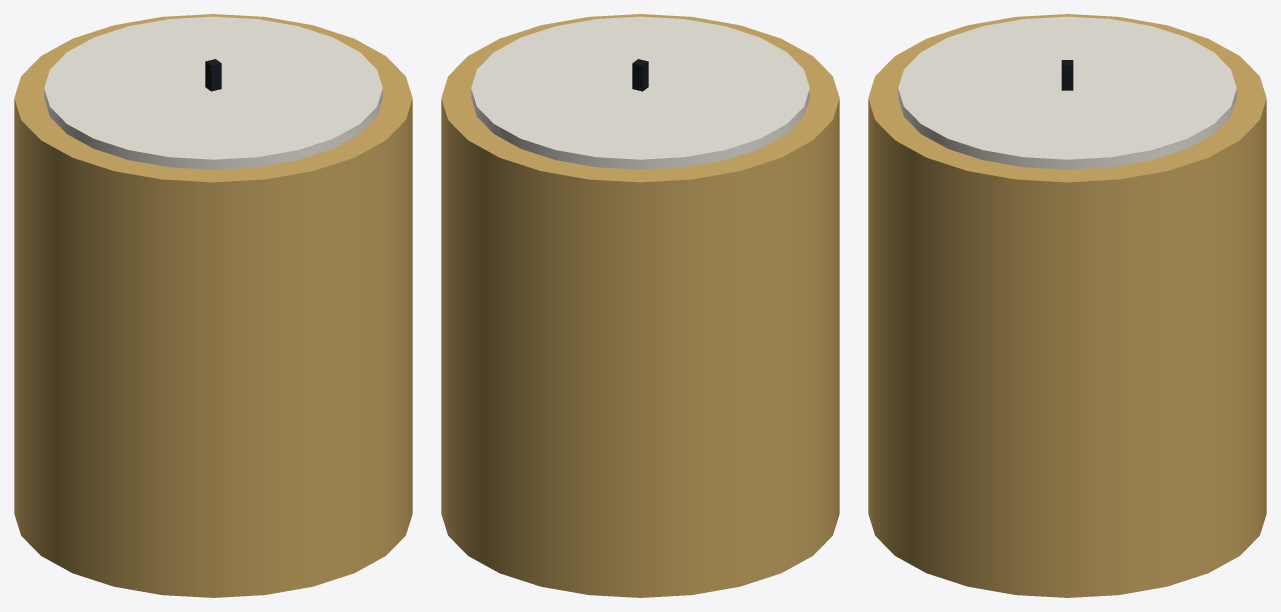
File: candle.glb
3 views of the same model, side by side, from view 1: azimuth 30°, elevation 25°; view 2: azimuth 150°, elevation 25°; view 3: azimuth 270°, elevation 25° (orthographic).
Visible parts, largest first — view 1: candle; view 2: candle; view 3: candle.
Boxes of the visible parts, x1,y1,x2,y2 form: candle: (14, 14, 412, 597); candle: (441, 14, 839, 597); candle: (868, 14, 1266, 597).
Size of the model in its own units: 8 by 10 by 8.
